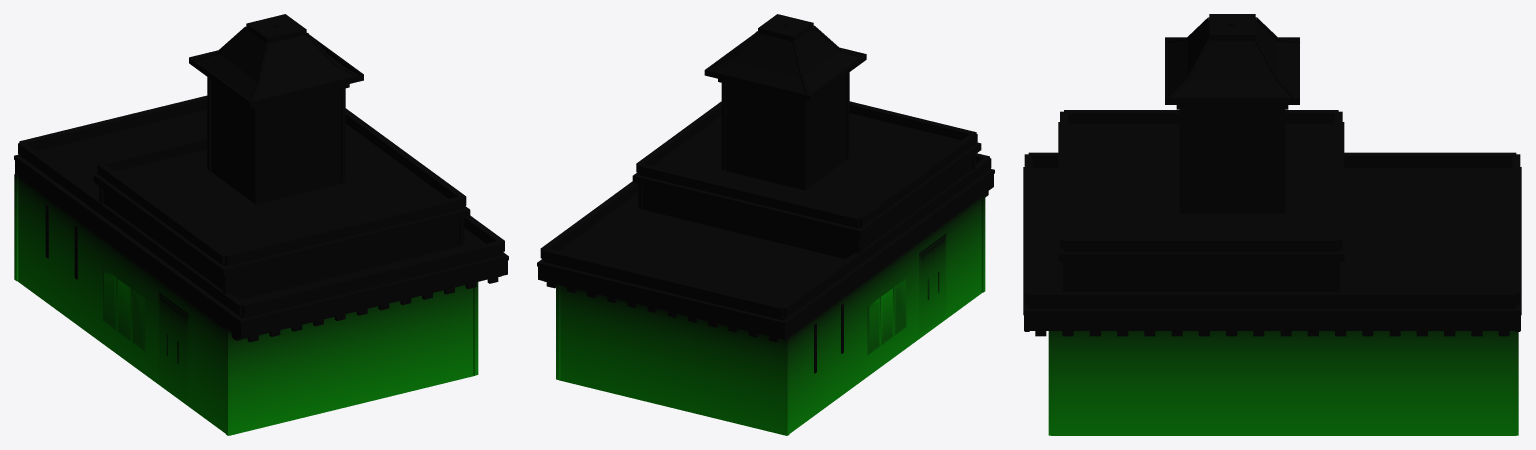
Rendered from l_residenceleft.glb.
3 renders of one model, left to right at view 1: azimuth 30°, elevation 25°; view 2: azimuth 150°, elevation 25°; view 3: azimuth 270°, elevation 25°, orthographic. The views are drawn at different scales.
Parts seen in each view (by area): view 1: lod0; view 2: lod0; view 3: lod0.
Boxes of the visible parts, x1,y1,x2,y2 form: lod0: (14,14,508,435); lod0: (537,14,994,435); lod0: (1023,14,1521,435).
Size of what is drawn, in the model's own units: 21.4 by 24.2 by 31.2.
